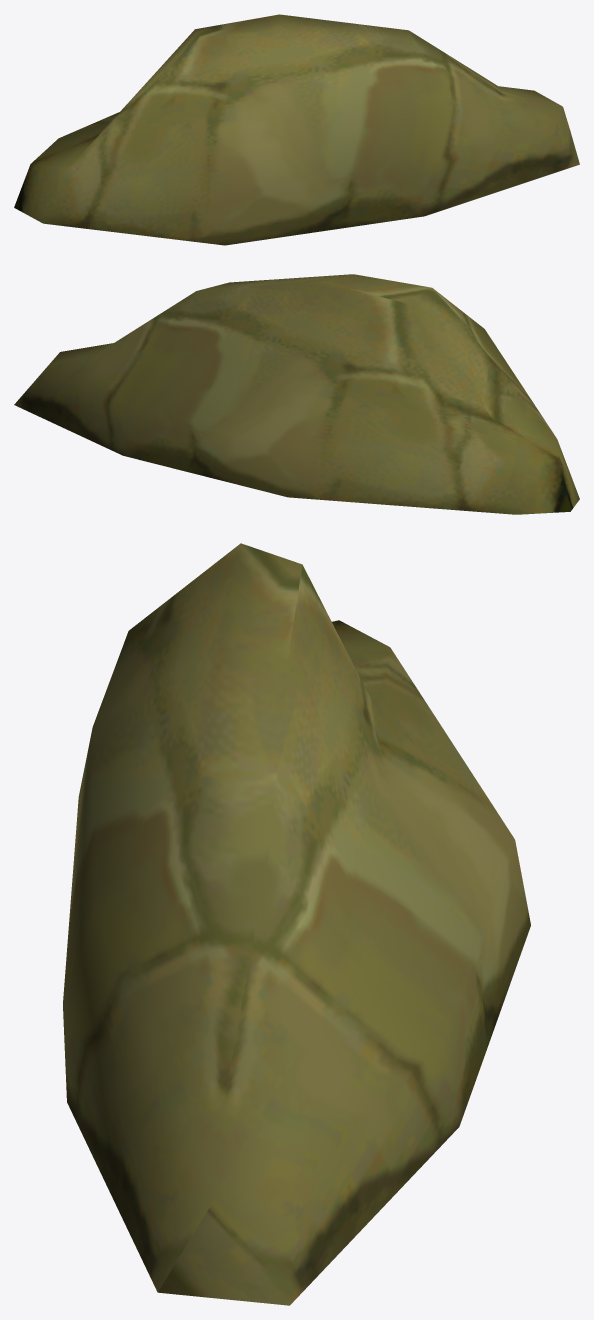
File: sences_changbanpo_shitou004.FBX
3 renders of one model, top to bottom at view 1: azimuth 30°, elevation 25°; view 2: azimuth 150°, elevation 25°; view 3: azimuth 270°, elevation 25°, orthographic. The views are drawn at different scales.
Parts seen in each view (by area): view 1: sences_changbanpo_shitou004; view 2: sences_changbanpo_shitou004; view 3: sences_changbanpo_shitou004.
Boxes of the visible parts, x1=… form: sences_changbanpo_shitou004: x1=14, y1=14, x2=579, y2=245; sences_changbanpo_shitou004: x1=14, y1=274, x2=579, y2=514; sences_changbanpo_shitou004: x1=63, y1=543, x2=530, y2=1305.
Size of the model in its own units: 3.76 by 1.41 by 1.33.
